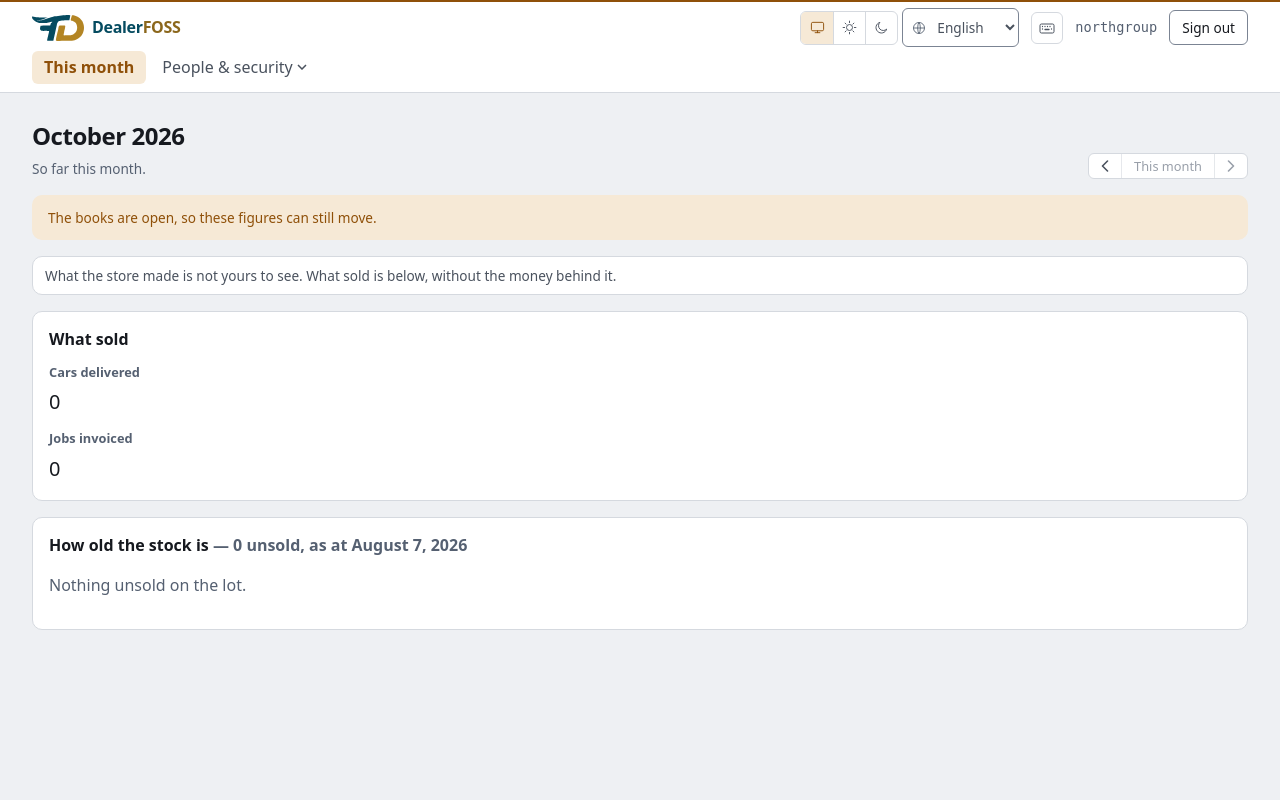
it: a navigation that reflects what the caller holds › still offers a person their own security screens, which need no permission
Expected: the text "So far this month." is shown, [32,159,146,178]
Click the button "People & security": (235,67) [150,51,319,84]
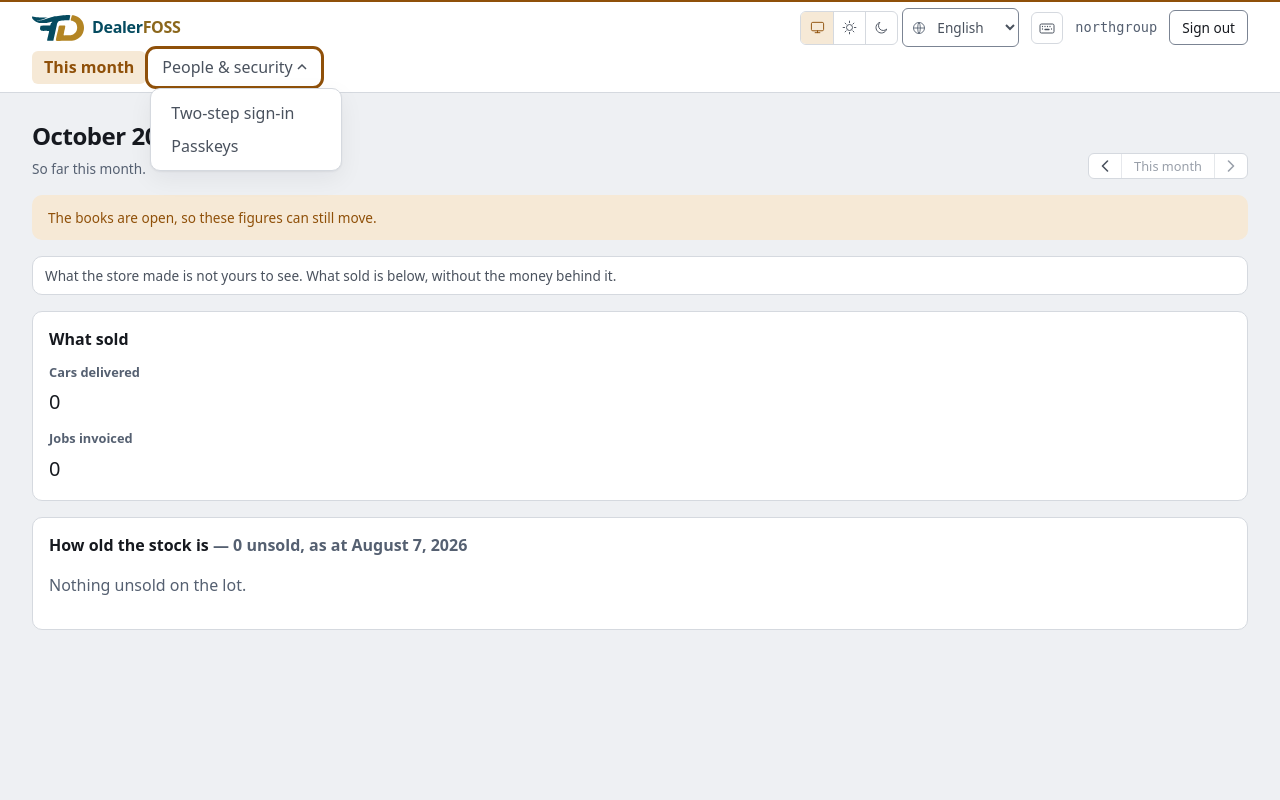
Expected: the link "Passkeys" is shown, [171,135,238,157]
